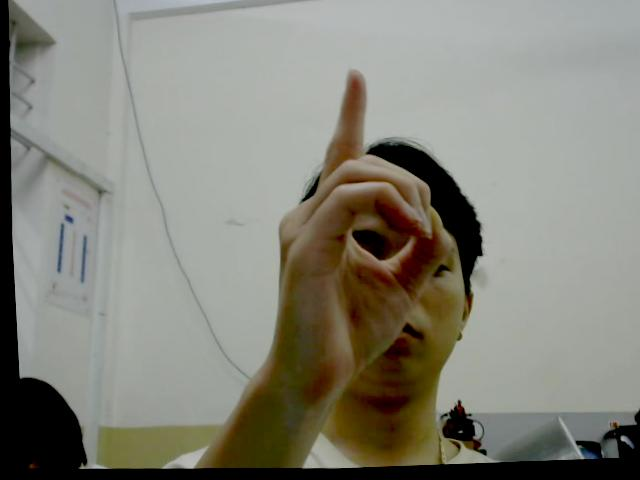D: (259, 63, 462, 396)
